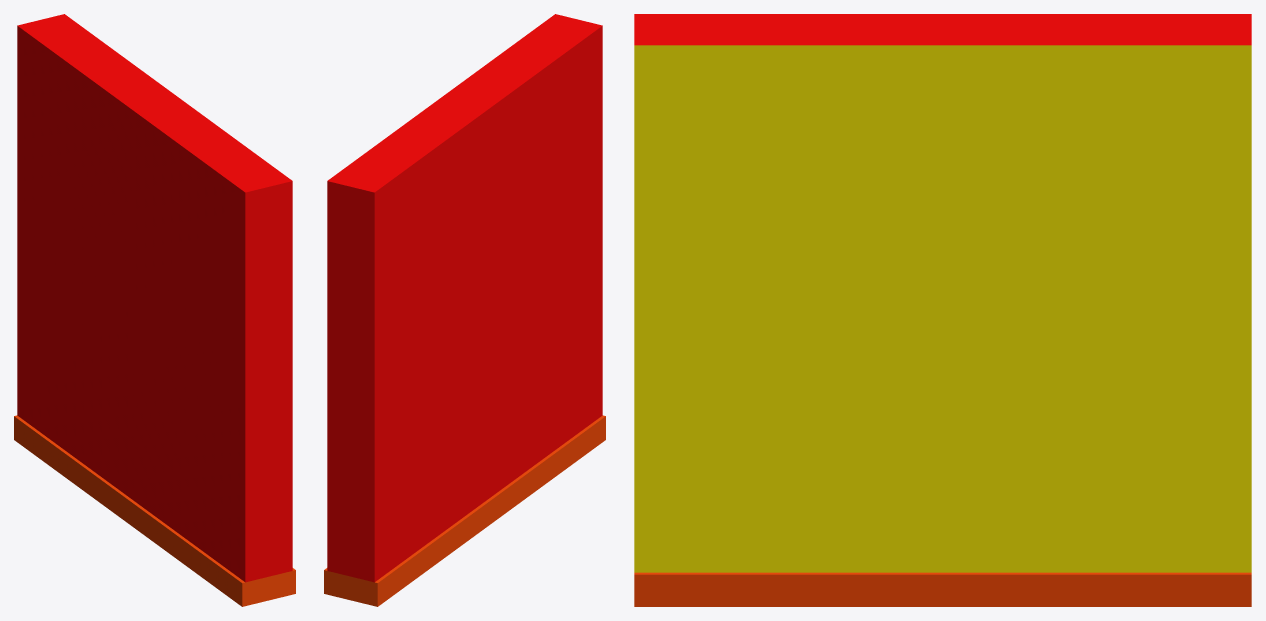
The model's file is Wall.FBX.
3 views of the same model, side by side, from view 1: azimuth 30°, elevation 25°; view 2: azimuth 150°, elevation 25°; view 3: azimuth 270°, elevation 25° (orthographic). The views are drawn at different scales.
Parts seen in each view (by area): view 1: Wall001; view 2: Wall001; view 3: Wall001.
Boxes of the visible parts, x1,y1,x2,y2 form: Wall001: (14,14,295,606); Wall001: (324,14,605,606); Wall001: (634,14,1251,606).
Bounding box in the file's own units: 34 × 250 × 250.
